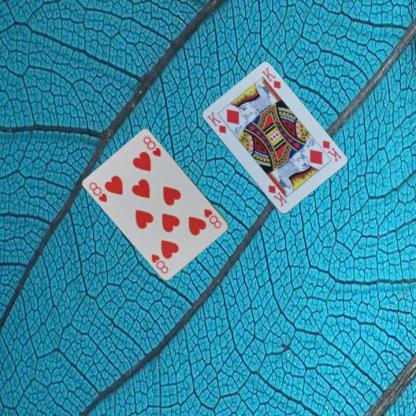8h: (86, 180, 108, 204), (202, 206, 223, 230)
Kd: (204, 109, 227, 135), (320, 137, 342, 163)
